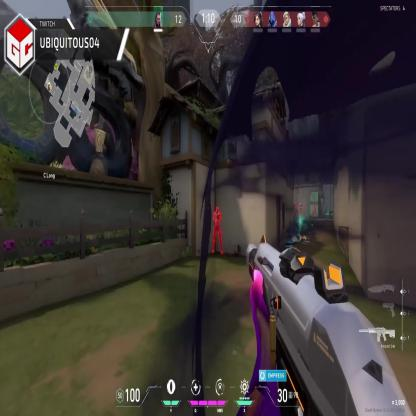enemy: (212, 206, 223, 258), (312, 203, 318, 218), (294, 203, 298, 217), (299, 202, 302, 215)
enemy_head: (216, 206, 219, 213), (295, 202, 297, 206), (314, 204, 316, 206), (300, 202, 301, 204)
